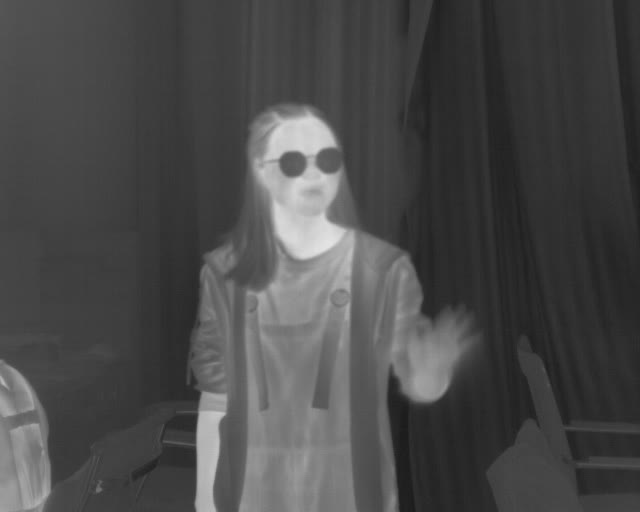face: (251, 103, 344, 220)
